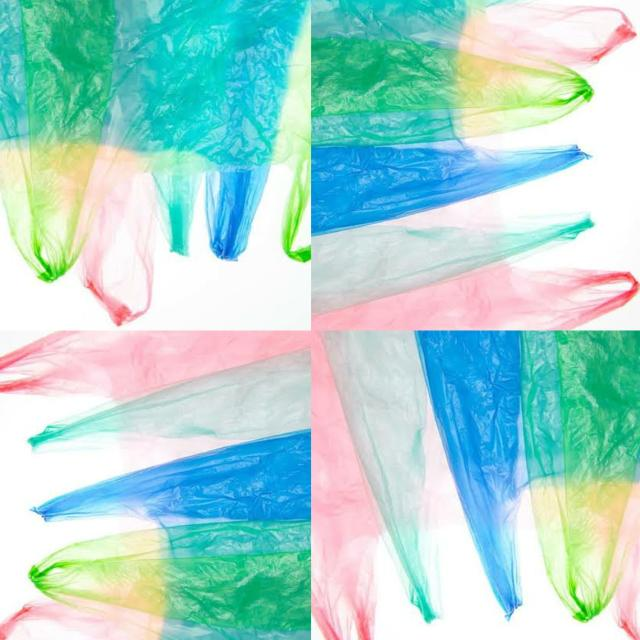plastik: (29, 430, 311, 640), (100, 0, 307, 260), (521, 332, 640, 619), (324, 332, 437, 621), (0, 0, 116, 281), (417, 330, 525, 616), (313, 37, 592, 146), (311, 215, 593, 314), (29, 350, 311, 449), (311, 140, 588, 234), (33, 430, 311, 521), (311, 332, 381, 640), (312, 265, 639, 330), (0, 330, 311, 398), (311, 0, 635, 65), (80, 147, 155, 325), (272, 10, 311, 262), (0, 598, 164, 640), (611, 466, 640, 640)
